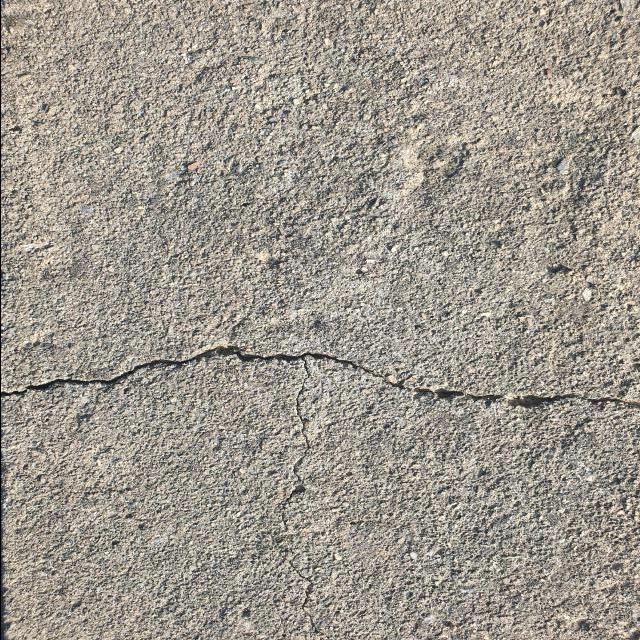SurfaceCrack: (0, 294, 639, 454)
